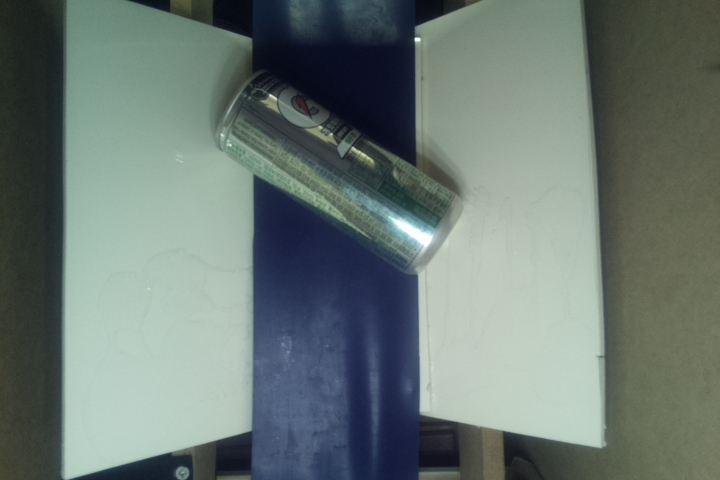can: (214, 69, 464, 273)
